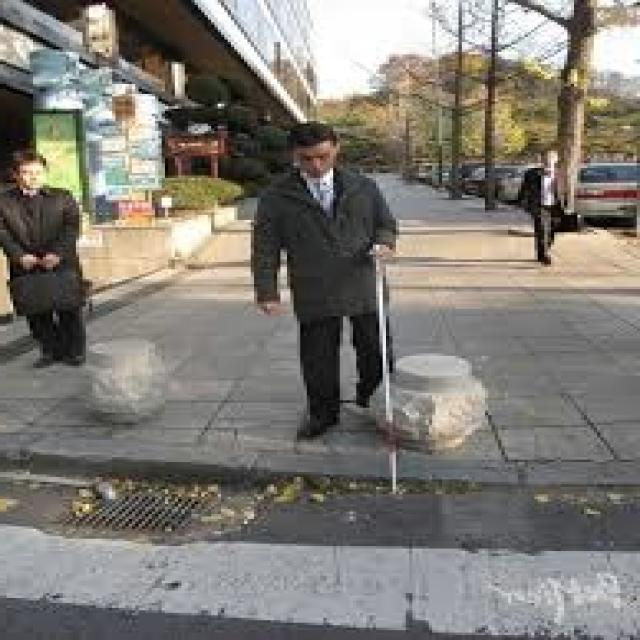bollard: (360, 340, 498, 456), (73, 326, 180, 421)
